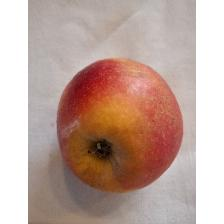Apfel: (54, 54, 186, 196)
